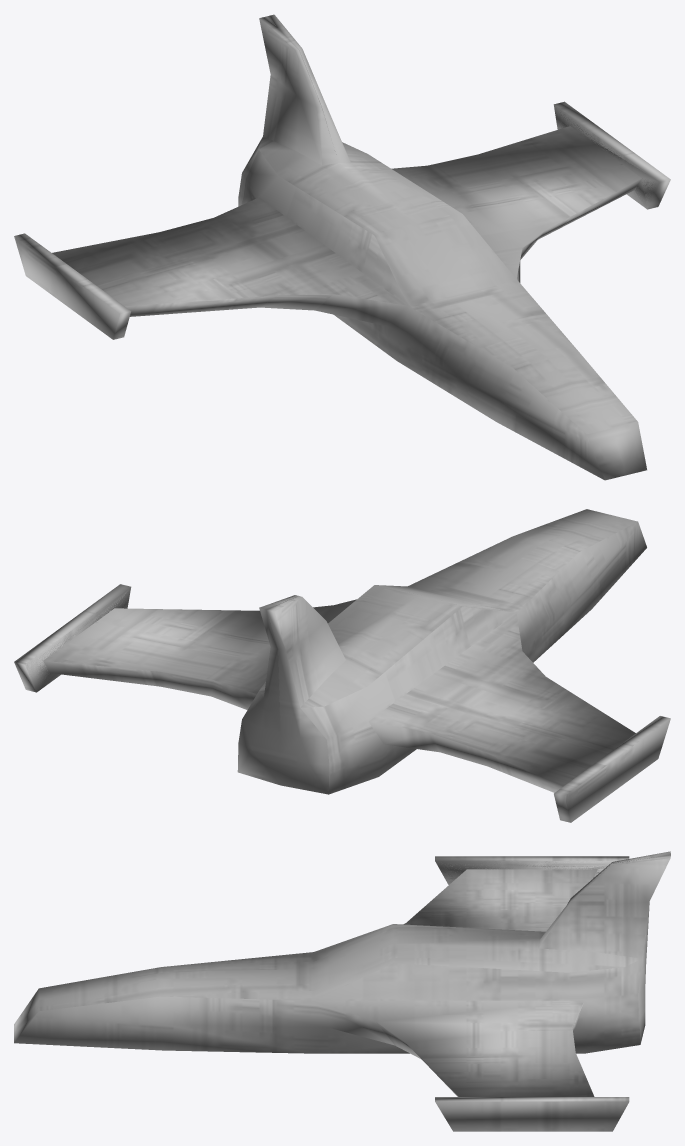
The model's file is spaceship.obj.
3 renders of one model, top to bottom at view 1: azimuth 30°, elevation 25°; view 2: azimuth 150°, elevation 25°; view 3: azimuth 270°, elevation 25°, orthographic. The views are drawn at different scales.
Visible parts, largest first — view 1: Cube; view 2: Cube; view 3: Cube.
Part boxes in pixels (x1,y1,x2,y2): Cube: (14, 14, 670, 480); Cube: (14, 509, 670, 822); Cube: (14, 851, 670, 1131).
Bounding box in the file's own units: 52.67 × 18.14 × 59.56.
1 material, 1 textured.
